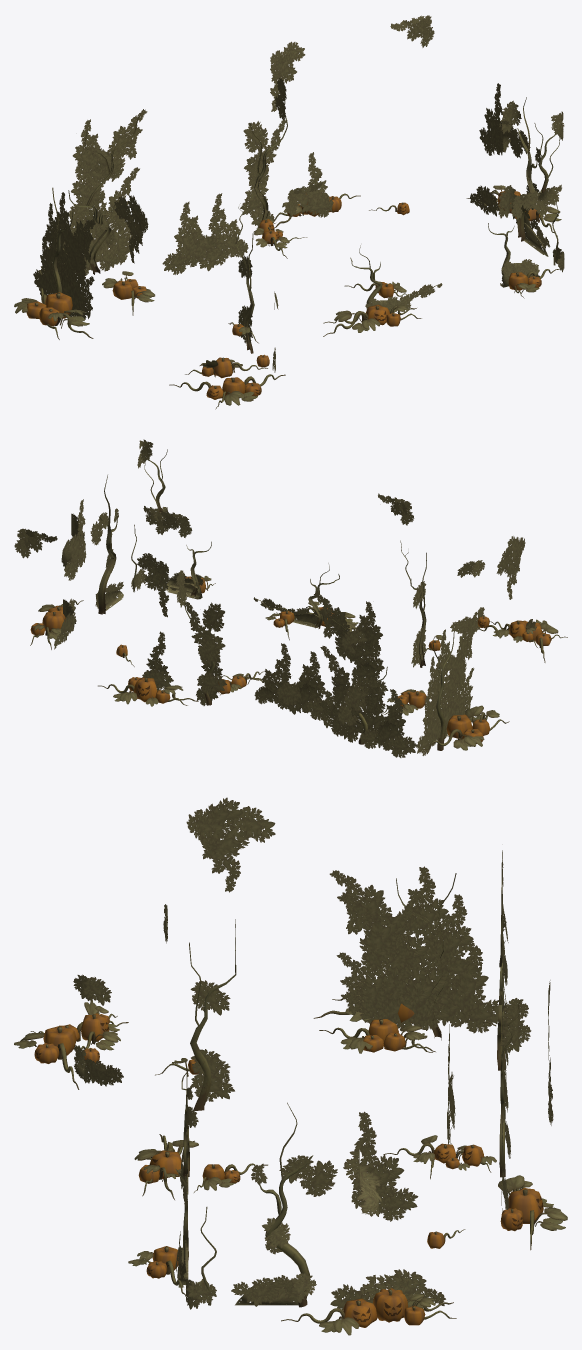
File: vegetation.glb
The picture shows the model from 3 angles, top to bottom: view 1: azimuth 30°, elevation 25°; view 2: azimuth 150°, elevation 25°; view 3: azimuth 270°, elevation 25°; orthographic projection. The views are drawn at different scales.
Parts seen in each view (by area): view 1: pPlane74, pPlane76, pPlane75, pPlane68, pPlane62, pPlane79, pPlane89, pPlane67, pPlane63, pPlane66, pPlane80, pPlane77 (+12 smaller); view 2: pPlane65, pPlane76, pPlane74, pPlane63, pPlane68, pPlane81, pPlane69, pPlane62, pPlane66, pPlane75, ivy_18, pPlane89 (+15 smaller); view 3: pPlane64, pPlane92, pPlane91, pPlane67, pPlane85, pPlane87, pPlane86, pPlane90, pPlane89, ivy_18, ivy_16, pumpkins3 (+9 smaller).
Part boxes in pixels (bbox=[...]): pPlane74: bbox=[162, 201, 208, 274]; pPlane76: bbox=[91, 109, 147, 181]; pPlane75: bbox=[195, 193, 228, 271]; pPlane68: bbox=[69, 159, 105, 220]; pPlane62: bbox=[270, 41, 305, 111]; pPlane79: bbox=[299, 152, 333, 217]; pPlane89: bbox=[63, 219, 95, 271]; pPlane67: bbox=[479, 83, 503, 155]; pPlane63: bbox=[85, 167, 139, 241]; pPlane66: bbox=[77, 202, 116, 276]; pPlane80: bbox=[240, 166, 274, 227]; pPlane77: bbox=[72, 119, 108, 173]; pPlane65: bbox=[373, 689, 416, 757]; pPlane76: bbox=[314, 592, 367, 659]; pPlane74: bbox=[296, 651, 332, 720]; pPlane63: bbox=[320, 646, 368, 714]; pPlane68: bbox=[351, 636, 388, 695]; pPlane81: bbox=[184, 601, 225, 666]; pPlane69: bbox=[317, 684, 357, 736]; pPlane62: bbox=[137, 553, 169, 617]; pPlane66: bbox=[342, 678, 380, 748]; pPlane75: bbox=[274, 643, 301, 714]; ivy_18: bbox=[98, 475, 136, 614]; pPlane89: bbox=[446, 612, 477, 683]; pPlane64: bbox=[186, 806, 275, 892]; pPlane92: bbox=[378, 933, 450, 1030]; pPlane91: bbox=[341, 895, 429, 982]; pPlane67: bbox=[351, 1111, 418, 1221]; pPlane85: bbox=[439, 935, 505, 1033]; pPlane87: bbox=[420, 894, 478, 983]; pPlane86: bbox=[336, 952, 410, 1023]; pPlane90: bbox=[390, 866, 448, 939]; pPlane89: bbox=[329, 870, 419, 950]; ivy_18: bbox=[200, 1102, 313, 1307]; ivy_16: bbox=[189, 942, 236, 1110]; pumpkins3: bbox=[373, 1288, 408, 1322].
Size of what is drawn, in the model's own units: 36.65 by 12.47 by 25.
1 material, 1 textured.
